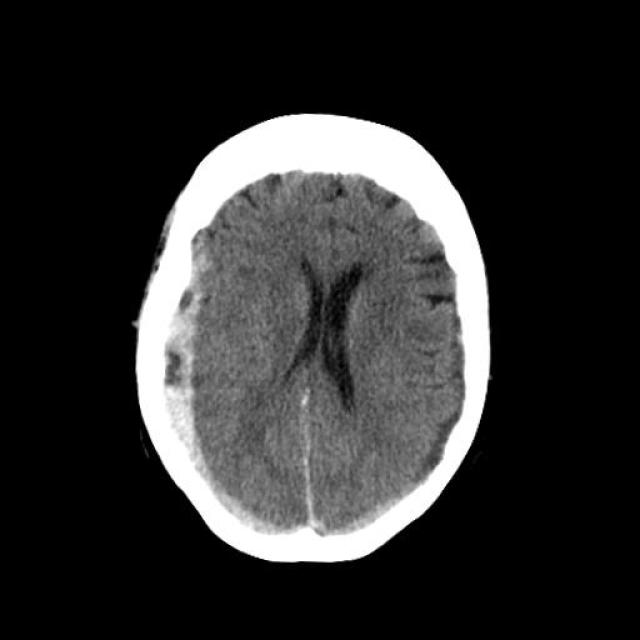Subdural: (128, 224, 292, 558)
